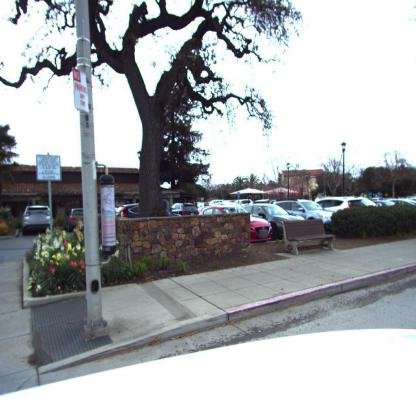car: (200, 202, 272, 239), (248, 201, 316, 237), (272, 199, 334, 225), (316, 196, 379, 215), (21, 206, 53, 236), (170, 202, 199, 216), (68, 209, 85, 232), (116, 203, 140, 217)
